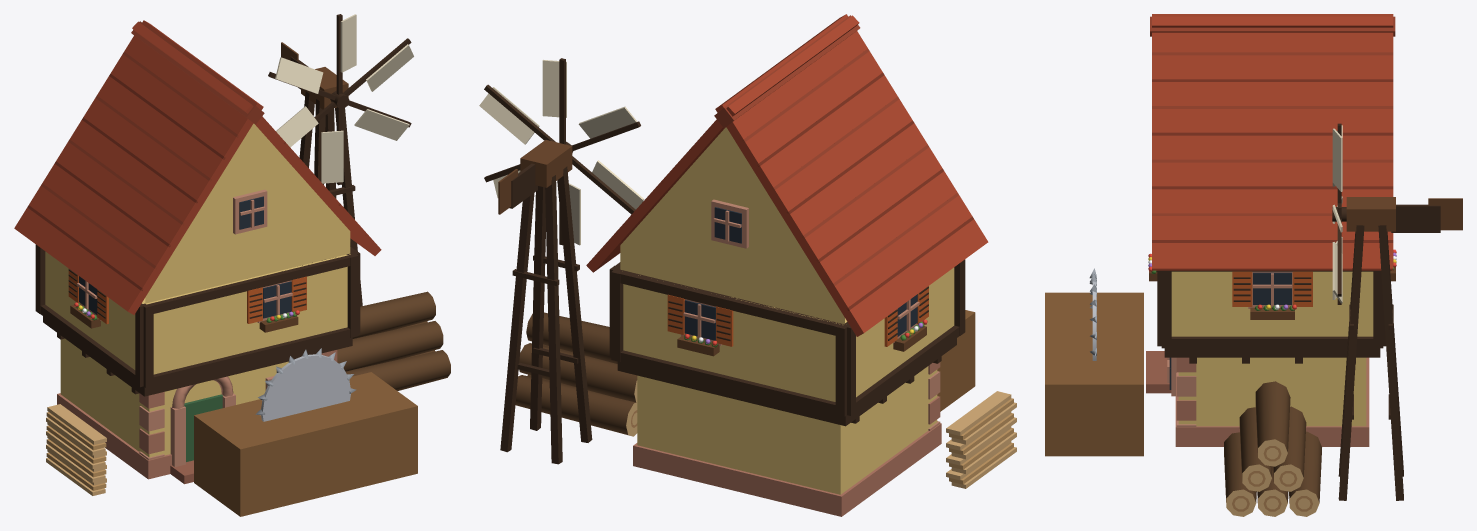
Rendered from saegewerk.glb.
3 renders of one model, left to right at view 1: azimuth 30°, elevation 25°; view 2: azimuth 150°, elevation 25°; view 3: azimuth 270°, elevation 25°, orthographic. The views are drawn at different scales.
Parts seen in each view (by area): view 1: object 169, object 188, object 164, object 30, spin2, object 1, object 189, object 178, object 126, object 231, object 21, object 32 (+22 smaller); view 2: object 169, object 1, object 159, object 62, spin2, object 10, object 178, object 126, object 240, object 241, object 21, object 64 (+19 smaller); view 3: object 178, object 188, object 1, object 94, object 169, object 237, object 10, object 242, object 243, object 95, object 21, spin2 (+24 smaller).
Part boxes in pixels (bbox=[...]): object 169: bbox=[14, 20, 263, 314]; object 188: bbox=[194, 372, 417, 516]; object 164: bbox=[145, 123, 350, 303]; object 30: bbox=[144, 254, 350, 374]; spin2: bbox=[268, 14, 413, 185]; object 1: bbox=[60, 338, 288, 457]; object 189: bbox=[261, 354, 350, 421]; object 178: bbox=[132, 21, 381, 255]; object 126: bbox=[45, 251, 145, 369]; object 231: bbox=[337, 321, 443, 371]; object 21: bbox=[43, 316, 352, 396]; object 32: bbox=[145, 255, 350, 313]; object 169: bbox=[715, 14, 988, 336]; object 1: bbox=[637, 366, 937, 494]; object 159: bbox=[620, 127, 844, 324]; object 62: bbox=[623, 275, 842, 401]; spin2: bbox=[479, 58, 643, 245]; object 10: bbox=[633, 423, 941, 516]; object 178: bbox=[586, 15, 859, 272]; object 126: bbox=[845, 267, 954, 397]; object 240: bbox=[545, 175, 562, 464]; object 241: bbox=[557, 166, 592, 442]; object 21: bbox=[617, 338, 956, 426]; object 64: bbox=[615, 270, 845, 335]; object 178: bbox=[1152, 14, 1393, 270]; object 188: bbox=[1045, 292, 1143, 456]; object 1: bbox=[1178, 357, 1366, 426]; object 94: bbox=[1171, 271, 1373, 336]; object 169: bbox=[1152, 16, 1393, 27]; object 237: bbox=[1255, 381, 1290, 466]; object 10: bbox=[1175, 357, 1369, 446]; object 242: bbox=[1378, 225, 1403, 500]; object 243: bbox=[1338, 225, 1364, 500]; object 95: bbox=[1171, 336, 1373, 347]; object 21: bbox=[1164, 348, 1380, 357]; spin2: bbox=[1332, 123, 1346, 304].
Size of the model in its own units: 5.03 by 4.29 by 4.22.
